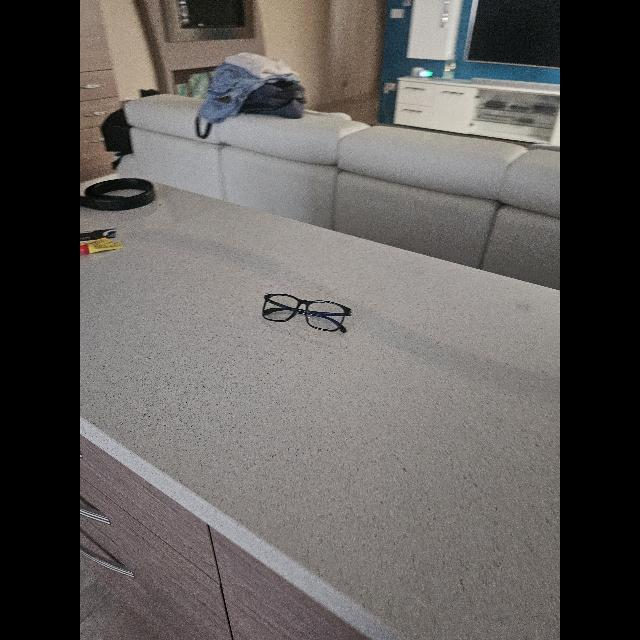glasses: (262, 294, 352, 332)
